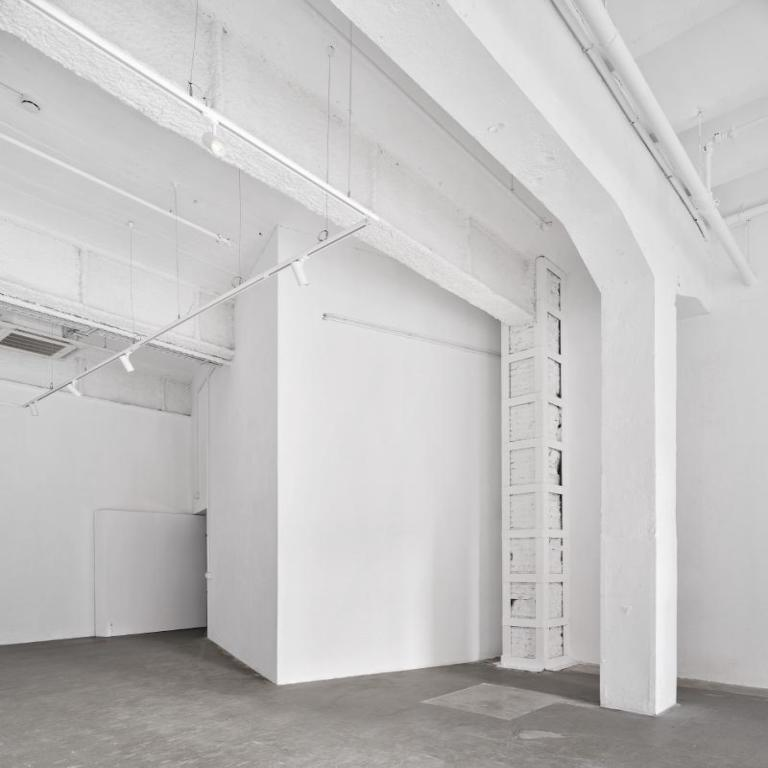white-walls: (237, 353, 452, 646)
